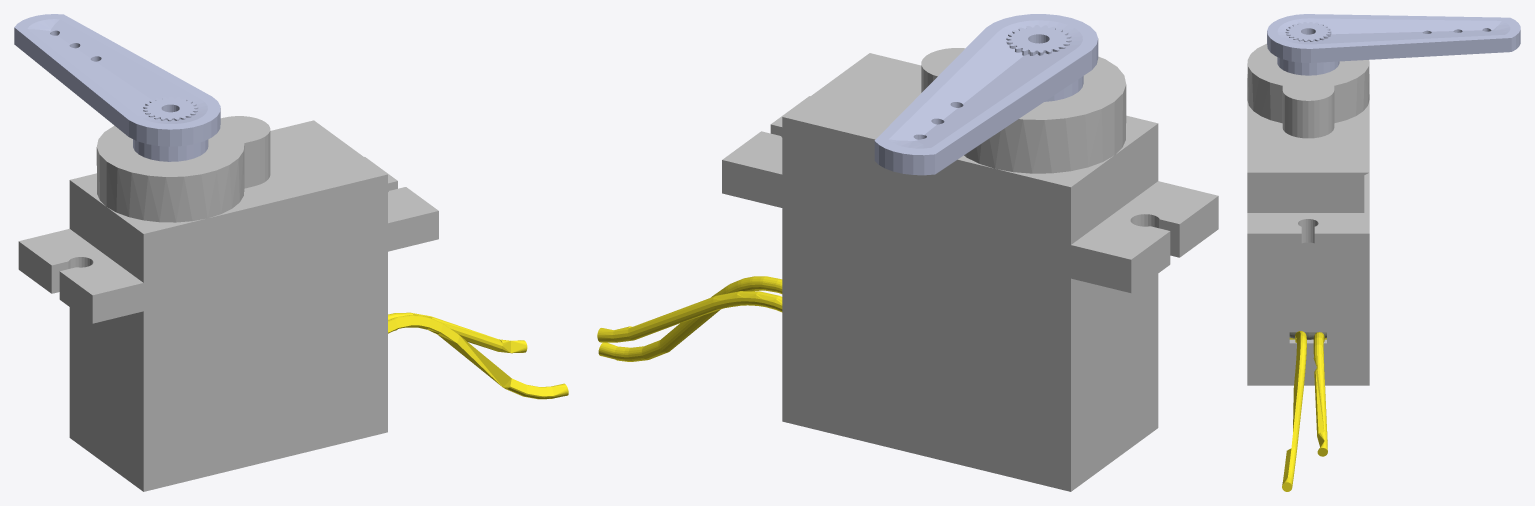
File: Tests.dae
The picture shows the model from 3 angles, left to right: view 1: azimuth 30°, elevation 25°; view 2: azimuth 150°, elevation 25°; view 3: azimuth 270°, elevation 25°; orthographic projection. The views are drawn at different scales.
Parts seen in each view (by area): view 1: node0, node7, node8, node10, node6; view 2: node0, node7, node8, node10, node6; view 3: node7, node0, node8, node10, node6.
Boxes of the visible parts, x1=… form: node0: x1=69, y1=252, x2=387, y2=491; node7: x1=18, y1=116, x2=438, y2=323; node8: x1=14, y1=14, x2=220, y2=161; node10: x1=388, y1=312, x2=568, y2=399; node6: x1=143, y1=96, x2=198, y2=121; node0: x1=782, y1=208, x2=1158, y2=491; node7: x1=722, y1=48, x2=1218, y2=292; node8: x1=874, y1=14, x2=1098, y2=175; node10: x1=597, y1=276, x2=782, y2=361; node6: x1=1006, y1=25, x2=1071, y2=55; node7: x1=1247, y1=43, x2=1369, y2=256; node0: x1=1247, y1=172, x2=1369, y2=385; node8: x1=1267, y1=14, x2=1520, y2=75; node10: x1=1282, y1=331, x2=1327, y2=491; node6: x1=1285, y1=22, x2=1331, y2=41.
Size of the model in its own units: 0.0459 by 0.0264 by 0.0326.
